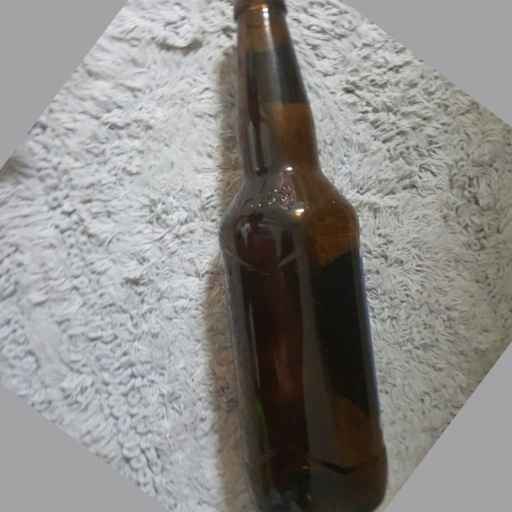Glass_1: (216, 1, 391, 512)
